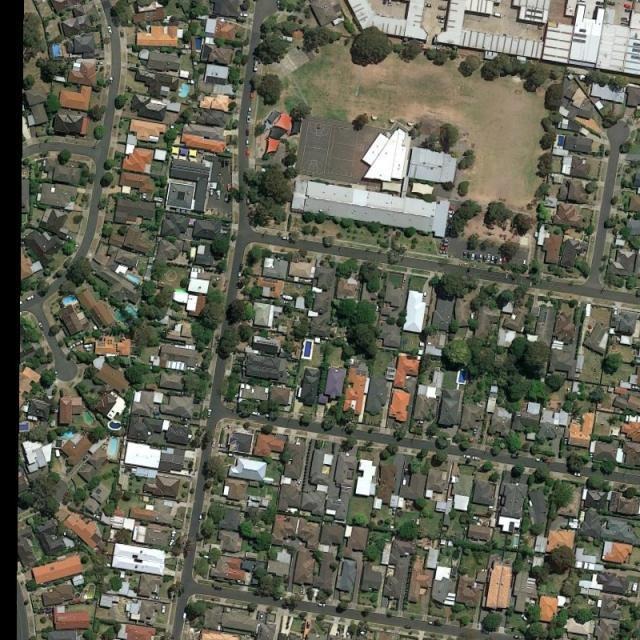vehicle: (206, 408, 213, 418), (492, 12, 503, 18), (254, 56, 258, 71), (216, 190, 221, 200), (182, 612, 187, 622), (107, 26, 113, 34), (473, 456, 481, 462), (251, 410, 259, 416), (318, 602, 326, 608), (246, 115, 251, 124), (237, 271, 242, 280), (482, 253, 487, 262), (402, 477, 407, 486), (198, 512, 202, 523), (214, 276, 221, 282), (250, 82, 254, 92), (226, 183, 230, 193), (282, 236, 290, 241), (422, 291, 427, 299), (439, 246, 449, 250), (471, 251, 475, 261), (478, 252, 482, 262), (486, 254, 491, 262), (494, 255, 498, 265), (425, 2, 433, 7), (437, 14, 445, 19), (574, 472, 582, 477), (171, 531, 176, 539), (250, 92, 254, 101), (246, 129, 250, 138), (441, 238, 450, 242), (440, 242, 449, 246), (502, 257, 506, 266), (437, 6, 446, 10), (543, 459, 552, 463), (169, 540, 175, 546), (247, 107, 252, 114), (447, 214, 454, 219), (522, 614, 527, 621), (240, 13, 248, 17), (224, 194, 228, 202), (439, 250, 447, 254), (462, 250, 466, 258), (522, 258, 526, 266), (462, 454, 470, 458), (162, 605, 166, 613), (259, 614, 263, 622), (491, 254, 494, 264), (246, 151, 250, 158), (447, 210, 454, 214), (498, 258, 502, 265), (438, 19, 445, 23), (535, 458, 542, 462), (467, 250, 470, 259), (246, 139, 249, 147), (387, 1, 391, 5)
